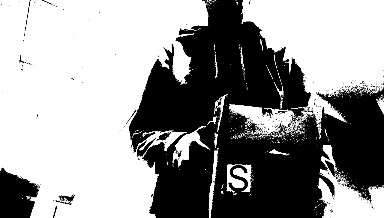S: (226, 162, 249, 191)
